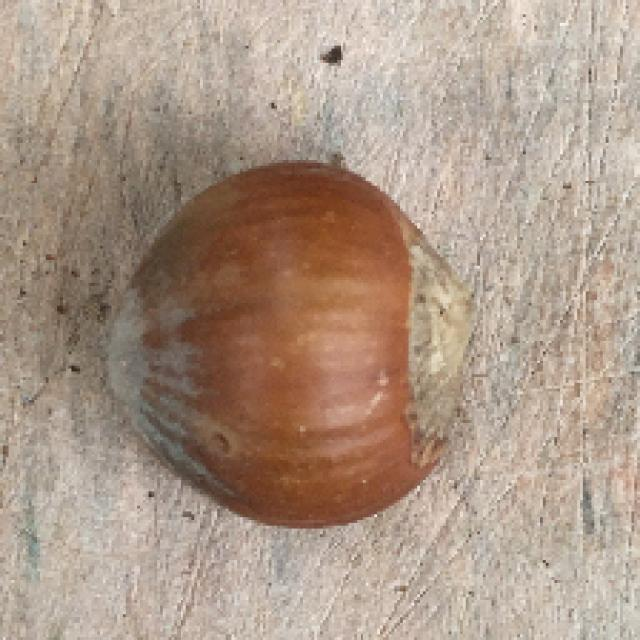qualityHazelnut: (104, 157, 466, 528)
